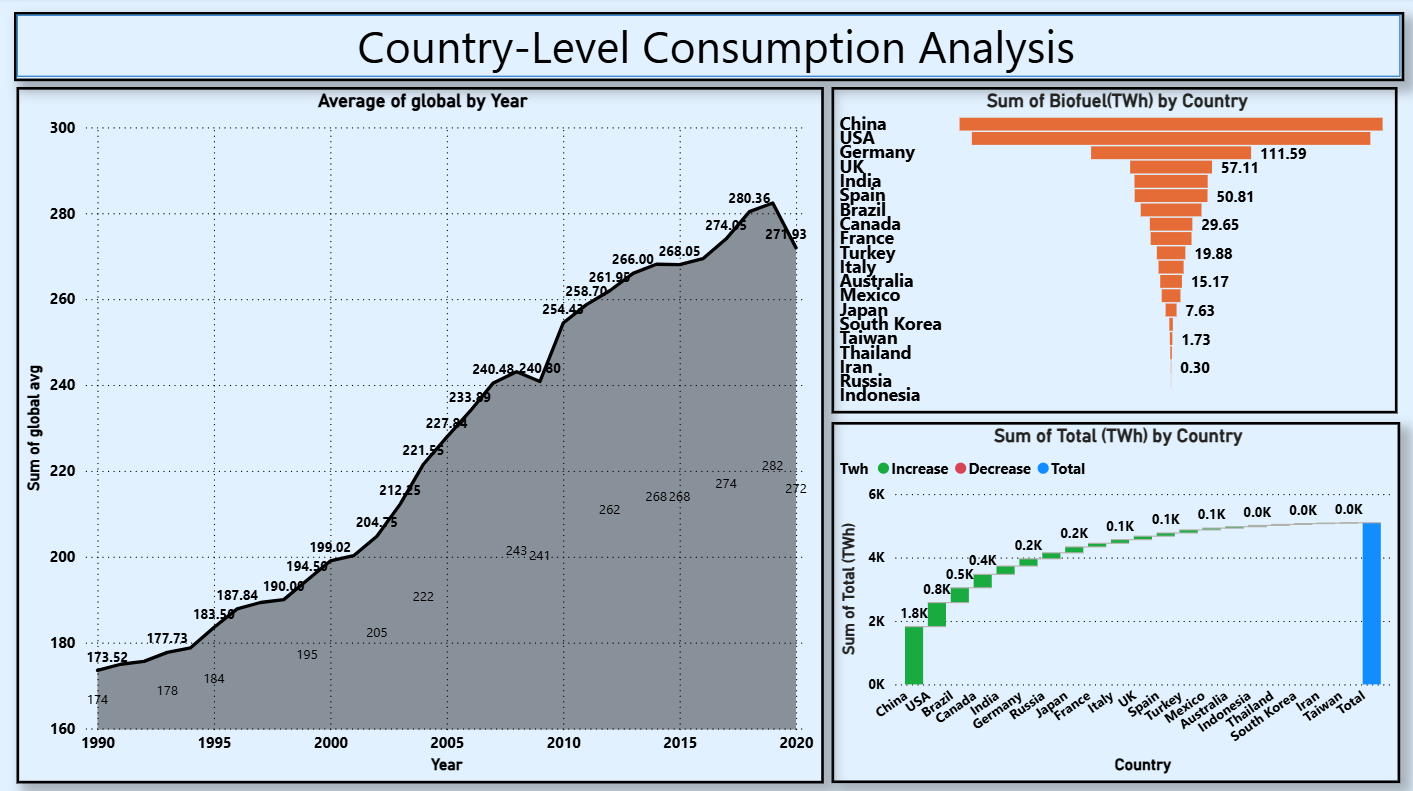

The page's visual inventory and layout, read from the dashboard file:
{"tool":"powerbi","page":{"name":"Consumption Analysis ","canvas":[1280,720],"ordinal":2},"visuals":[{"type":"shape","box":[13,13,1253.8,62],"z":0},{"type":"funnel","fields":{"Category":["top20CountriesPowerGeneration.Country"],"Y":["Sum(top20CountriesPowerGeneration.Biofuel(TWh))"]},"box":[750.2,80.8,510.7,294.3],"z":1000},{"type":"waterfallChart","fields":{"Category":["top20CountriesPowerGeneration.Country"],"Y":["Sum(top20CountriesPowerGeneration.Total (TWh))"]},"box":[750.1,383.1,512.5,325.9],"z":2000},{"type":"stackedAreaChart","title":"Average of global by Year","fields":{"Category":["Country_Consumption_TWH.Year"],"Y":["Sum(Country_Consumption_TWH.global avg)"]},"box":[16,81,727.7,628],"z":3000}]}

Visuals, with their boxes in screenshot pixels (x1, y1, x2, y2), scaled from the page's 1280x720 canvas onto the 1413x791 screenshot:
shape: x1=14 y1=14 x2=1398 y2=82
funnel - top20CountriesPowerGeneration.Country x Sum(top20CountriesPowerGeneration.Biofuel(TWh)): x1=828 y1=89 x2=1392 y2=412
waterfallChart - top20CountriesPowerGeneration.Country x Sum(top20CountriesPowerGeneration.Total (TWh)): x1=828 y1=421 x2=1394 y2=779
"Average of global by Year" stackedAreaChart: x1=18 y1=89 x2=821 y2=779
